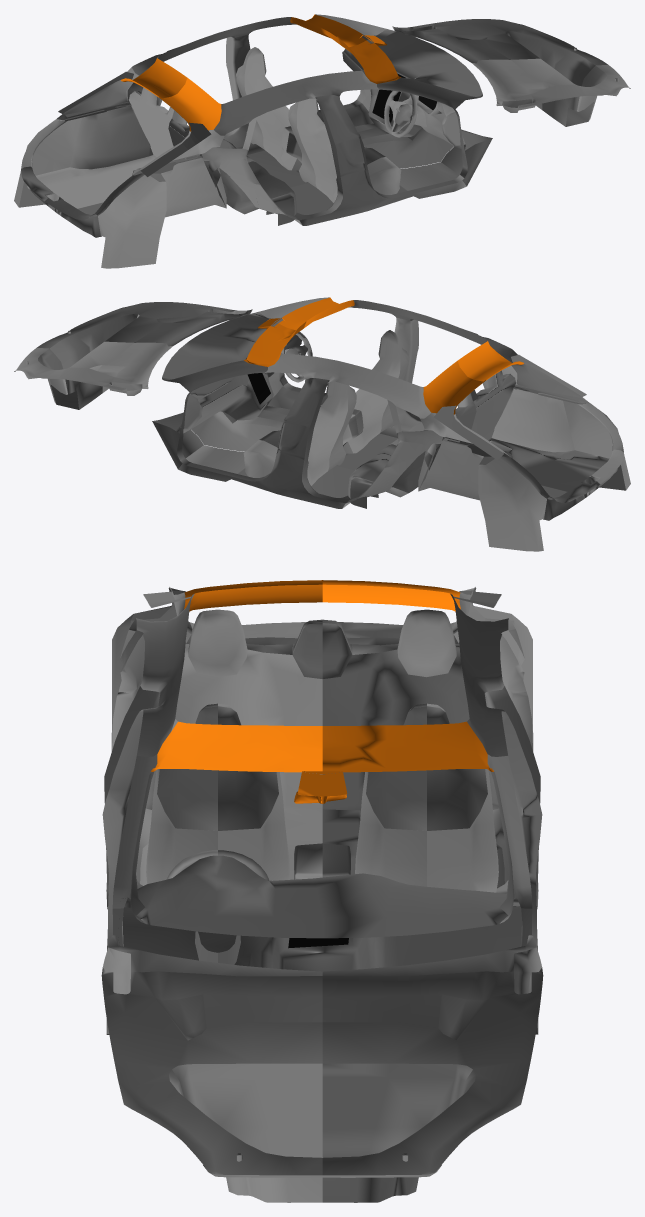
The model's file is Interior_RHD.obj.
The picture shows the model from 3 angles, top to bottom: view 1: azimuth 30°, elevation 25°; view 2: azimuth 150°, elevation 25°; view 3: azimuth 270°, elevation 25°; orthographic projection. The views are drawn at different scales.
Visible parts, largest first — view 1: Interior_RHD; view 2: Interior_RHD; view 3: Interior_RHD.
Part boxes in pixels (left/top/right/bottom): Interior_RHD: left=14, top=14, right=630, bottom=268; Interior_RHD: left=14, top=297, right=630, bottom=551; Interior_RHD: left=101, top=580, right=543, bottom=1202.
Size of the model in its own units: 4.79 by 1.14 by 1.62.
